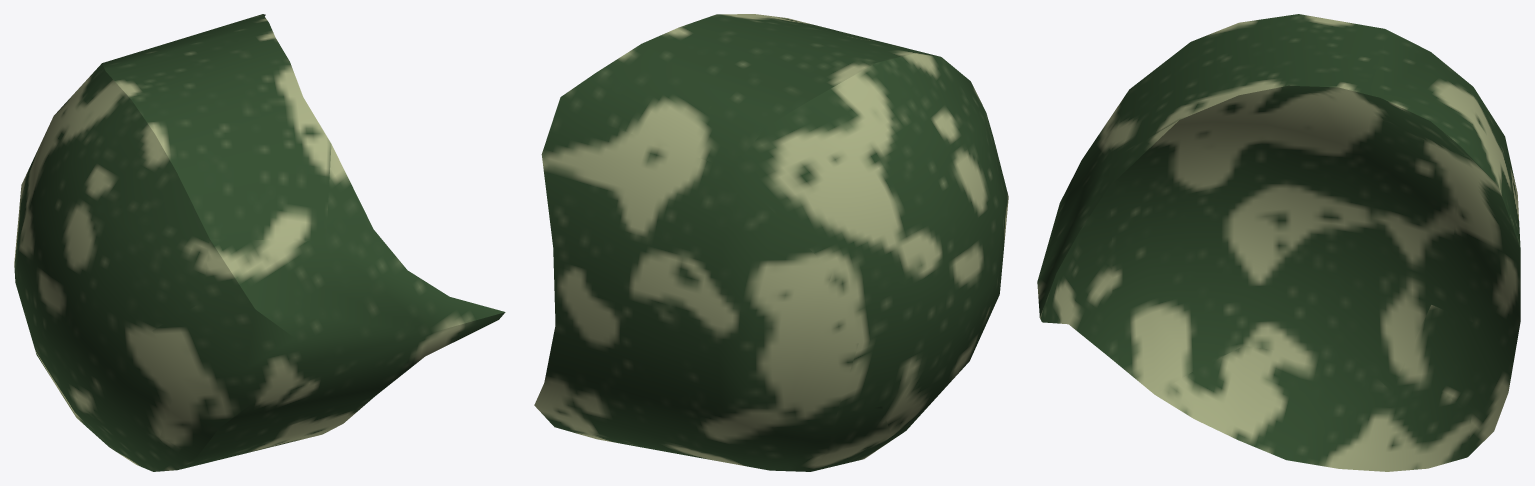
File: link_body_18.obj
3 renders of one model, left to right at view 1: azimuth 30°, elevation 25°; view 2: azimuth 150°, elevation 25°; view 3: azimuth 270°, elevation 25°, orthographic. The views are drawn at different scales.
Visible parts, largest first — view 1: link_body_18; view 2: link_body_18; view 3: link_body_18.
Boxes of the visible parts, x1,y1,x2,y2 form: link_body_18: (14, 14, 505, 471); link_body_18: (534, 14, 1008, 471); link_body_18: (1037, 14, 1520, 471).
Bounding box in the file's own units: 8.89 × 9.58 × 10.98.
